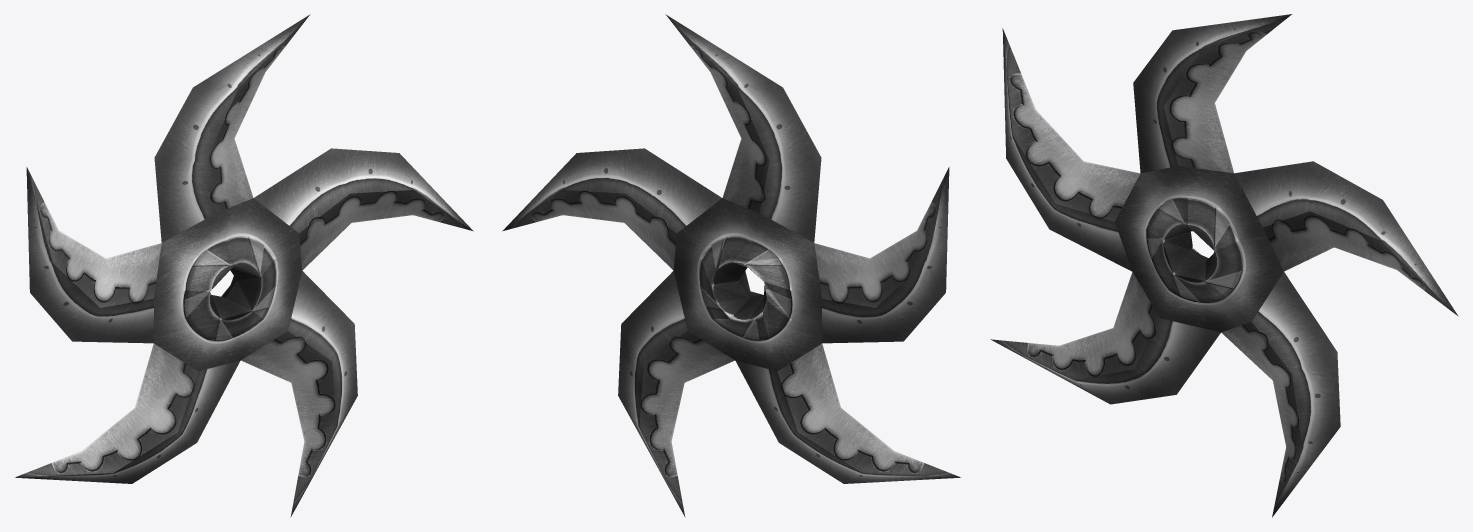
Rendered from Scythe Shuriken.FBX.
3 views of the same model, side by side, from view 1: azimuth 30°, elevation 25°; view 2: azimuth 150°, elevation 25°; view 3: azimuth 330°, elevation 25° (orthographic).
Visible parts, largest first — view 1: Scythe Shuriken; view 2: Scythe Shuriken; view 3: Scythe Shuriken.
Boxes of the visible parts, left/top/right/bottom form: Scythe Shuriken: left=15, top=14, right=473, bottom=517; Scythe Shuriken: left=502, top=14, right=960, bottom=517; Scythe Shuriken: left=990, top=14, right=1458, bottom=517.
Bounding box in the file's own units: 9.95 × 1.01 × 10.32.
